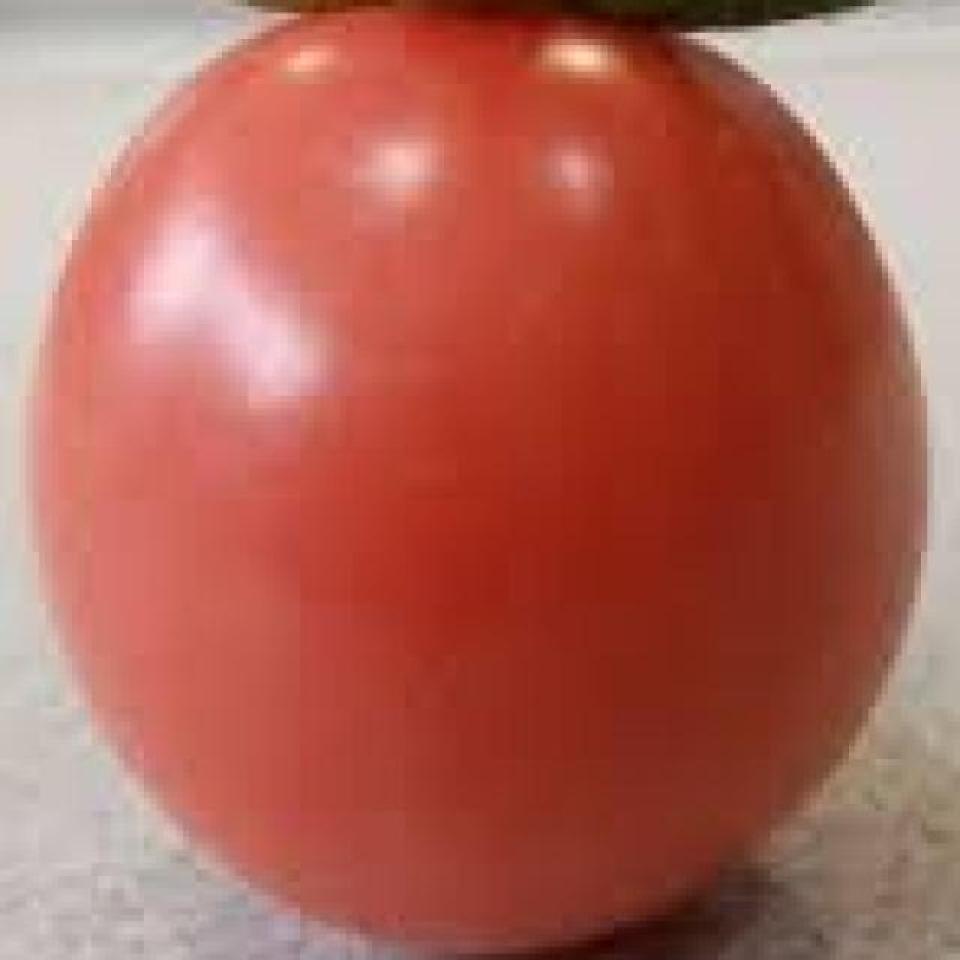Healthy: (30, 0, 960, 960)
